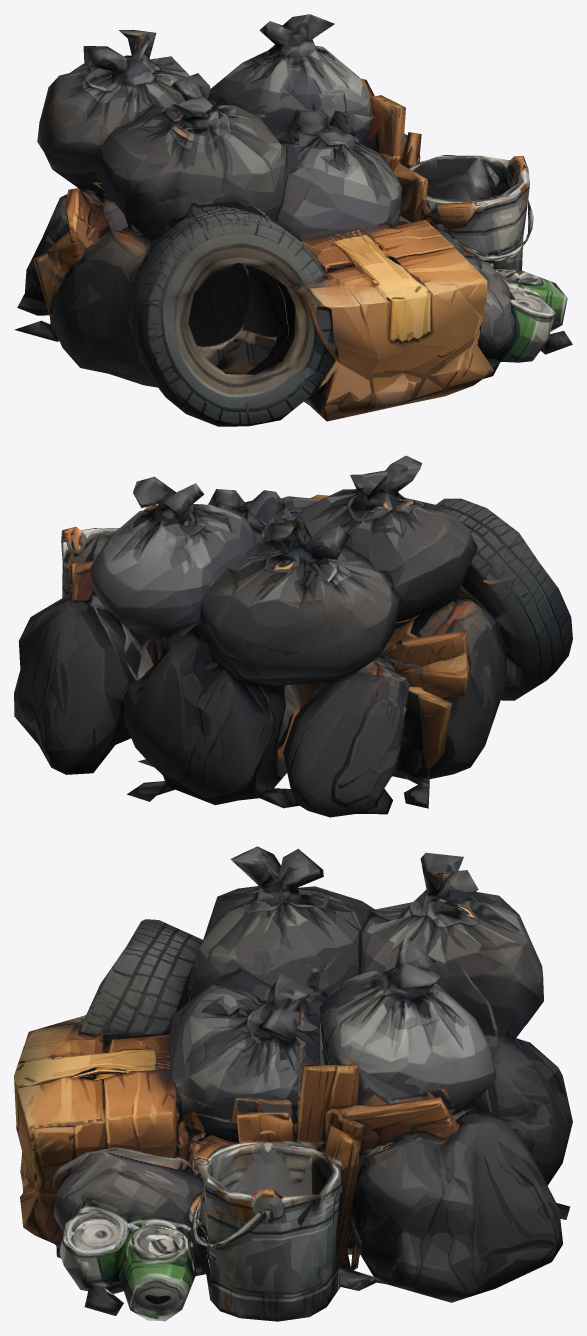
Rendered from Loot_TrashPile_Closed.fbx.
The picture shows the model from 3 angles, top to bottom: view 1: azimuth 30°, elevation 25°; view 2: azimuth 150°, elevation 25°; view 3: azimuth 270°, elevation 25°; orthographic projection. The views are drawn at different scales.
Parts seen in each view (by area): view 1: texture_mapping; view 2: texture_mapping; view 3: texture_mapping.
Boxes of the visible parts, x1,y1,x2,y2 form: texture_mapping: (14,14,572,426); texture_mapping: (14,455,572,817); texture_mapping: (14,846,572,1321).
Size of the model in its own units: 0.9971 by 0.985 by 0.6007.
Materials: 1 (1 with a texture image).
